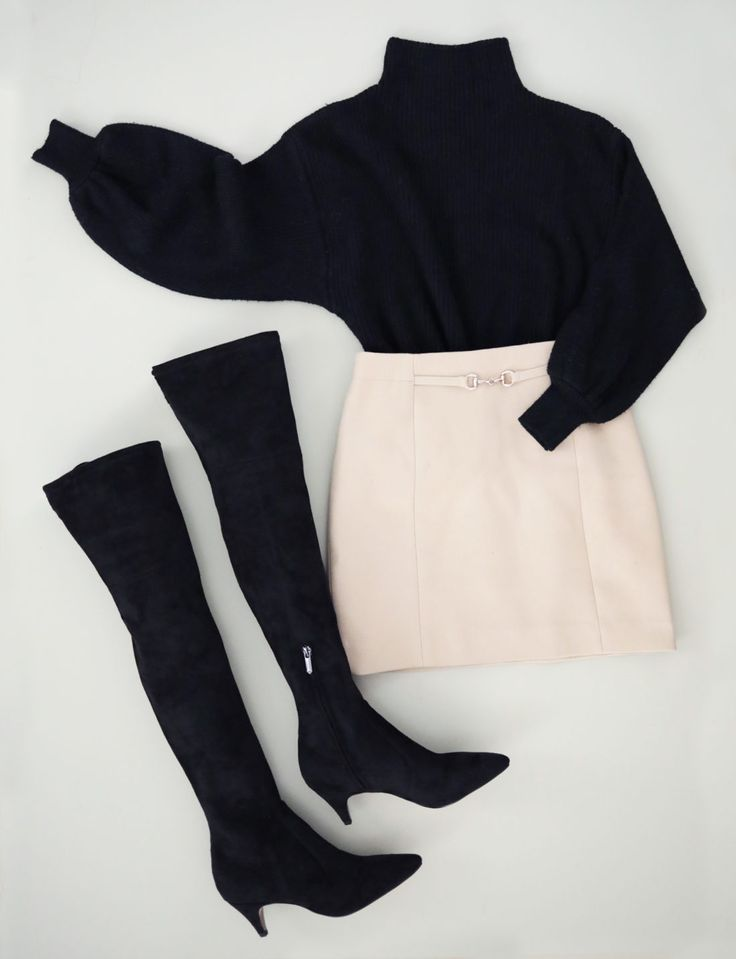gamuza: (49, 326, 509, 913)
